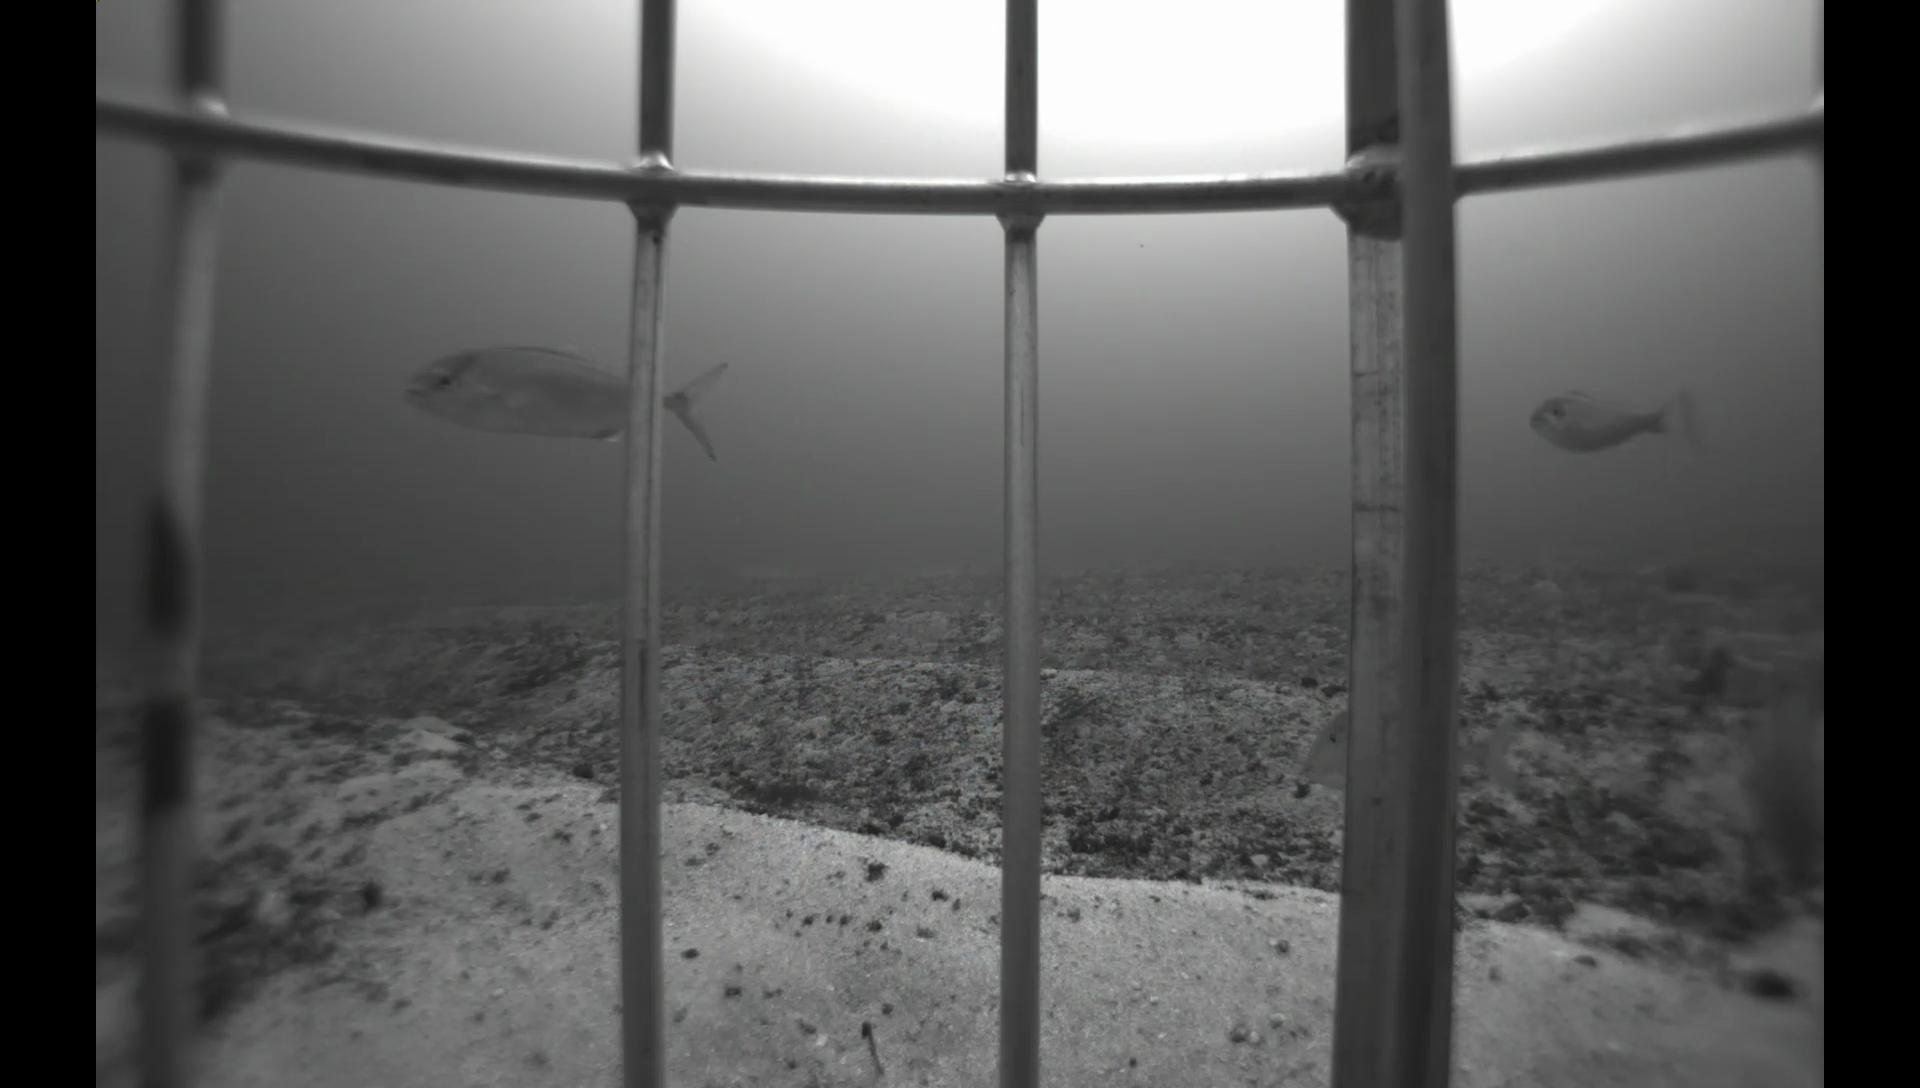CALAMUSPRORIDENS-170210605: (1294, 698, 1534, 815)
RHOMBOPLITESAURORUBENS-170152001: (1702, 659, 1824, 903), (1518, 376, 1709, 480)
SERIOLAFASCIATA-170113103: (389, 338, 746, 472)
